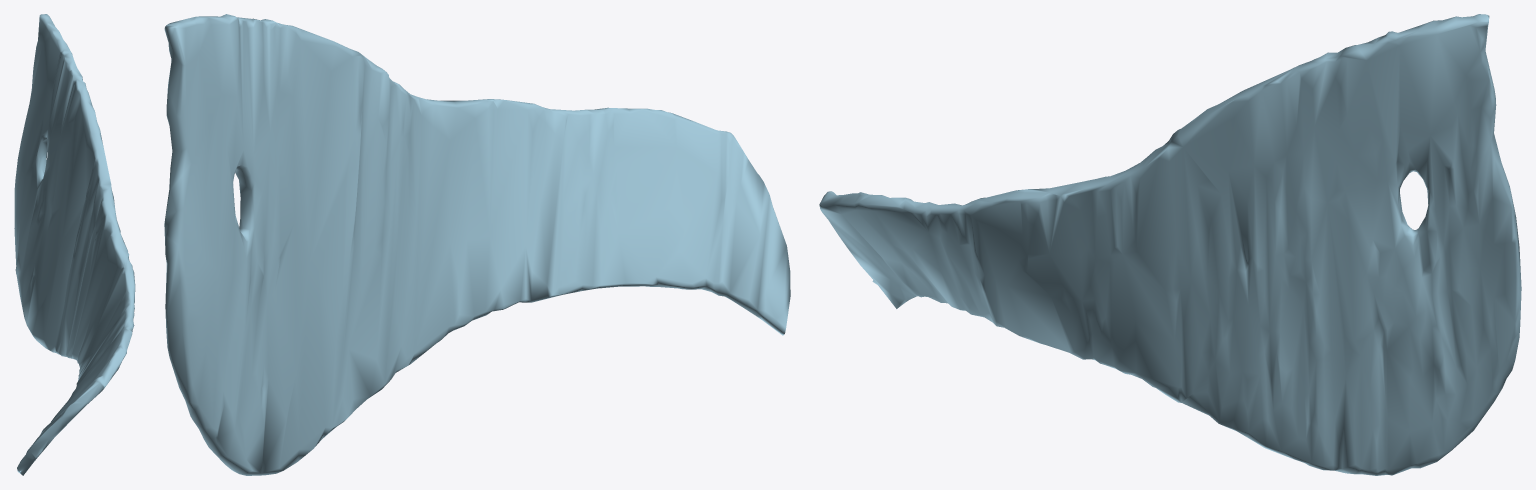
File: articulacoes-quadrangular-membrane-l.glb
3 renders of one model, left to right at view 1: azimuth 30°, elevation 25°; view 2: azimuth 150°, elevation 25°; view 3: azimuth 270°, elevation 25°, orthographic. The views are drawn at different scales.
Visible parts, largest first — view 1: Quadrangular membrane.l; view 2: Quadrangular membrane.l; view 3: Quadrangular membrane.l.
Part boxes in pixels (x1=…): Quadrangular membrane.l: x1=14, y1=14, x2=135, y2=475; Quadrangular membrane.l: x1=164, y1=14, x2=790, y2=475; Quadrangular membrane.l: x1=819, y1=14, x2=1521, y2=475.
Bounding box in the file's own units: 0.016 × 0.0216 × 0.0285.
